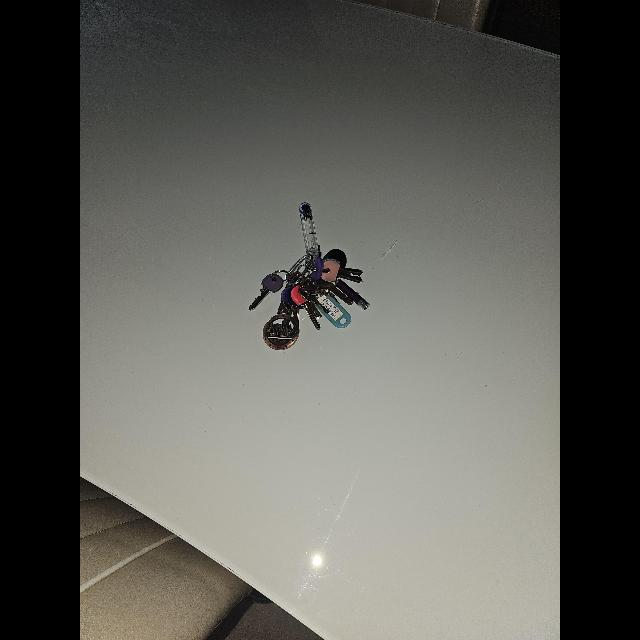Keys: (248, 202, 372, 351)
